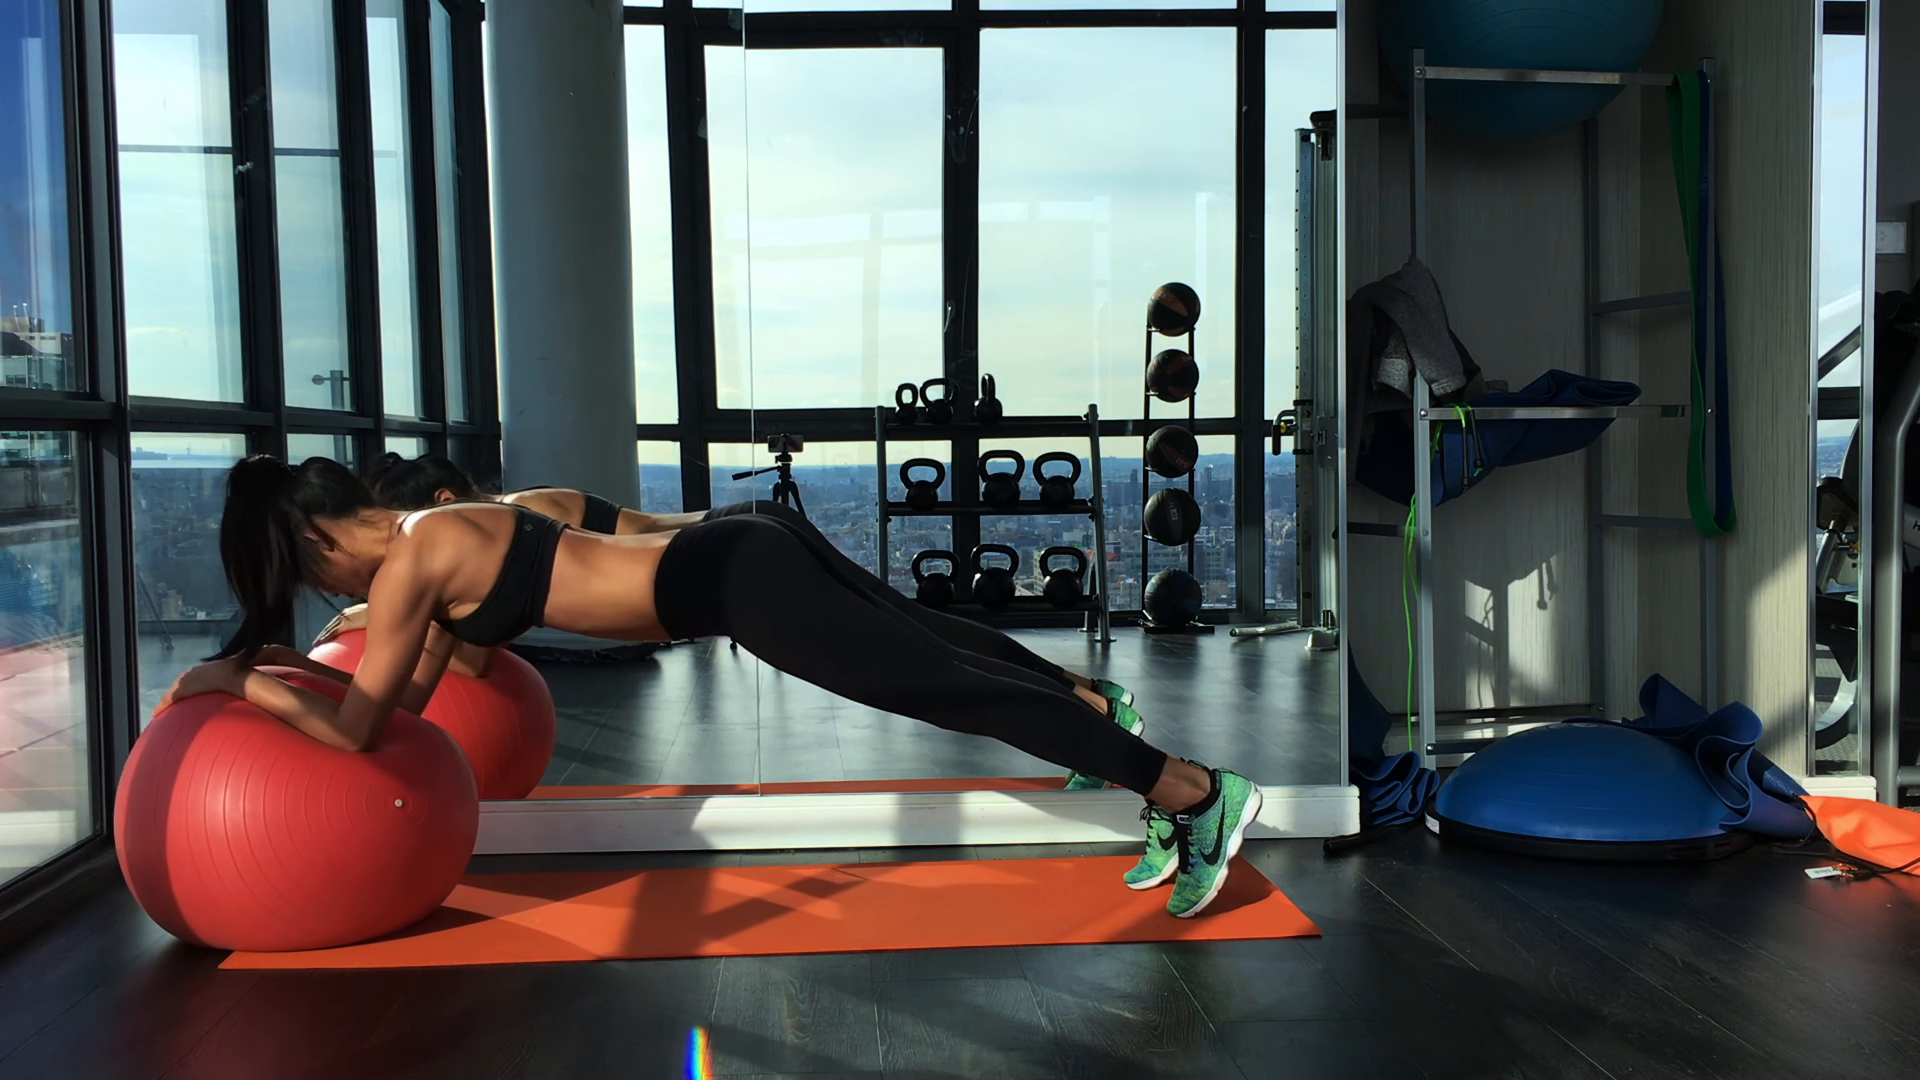yogaball: (92, 669, 489, 960)
